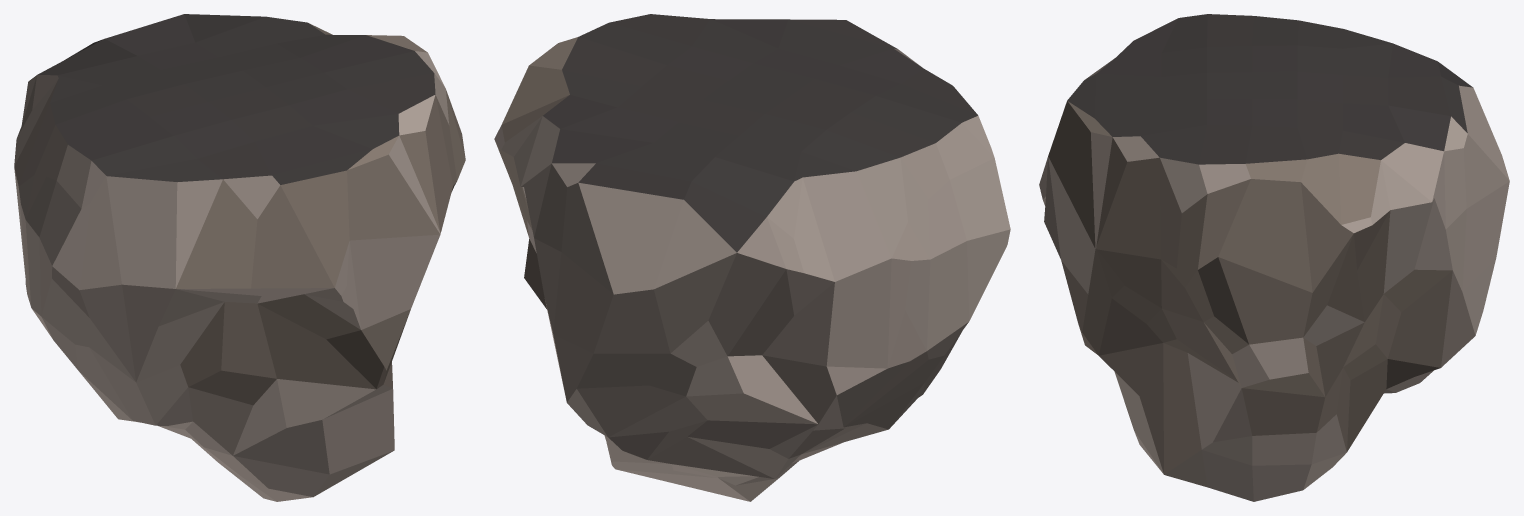
File: Medium_Island_5.fbx
3 renders of one model, left to right at view 1: azimuth 30°, elevation 25°; view 2: azimuth 150°, elevation 25°; view 3: azimuth 270°, elevation 25°, orthographic. The views are drawn at different scales.
Parts seen in each view (by area): view 1: Icosphere.004; view 2: Icosphere.004; view 3: Icosphere.004.
Part boxes in pixels (bbox=[...]): Icosphere.004: bbox=[14, 14, 465, 501]; Icosphere.004: bbox=[494, 14, 1010, 501]; Icosphere.004: bbox=[1039, 14, 1509, 501].
Bounding box in the file's own units: 99.73 × 92.22 × 101.
